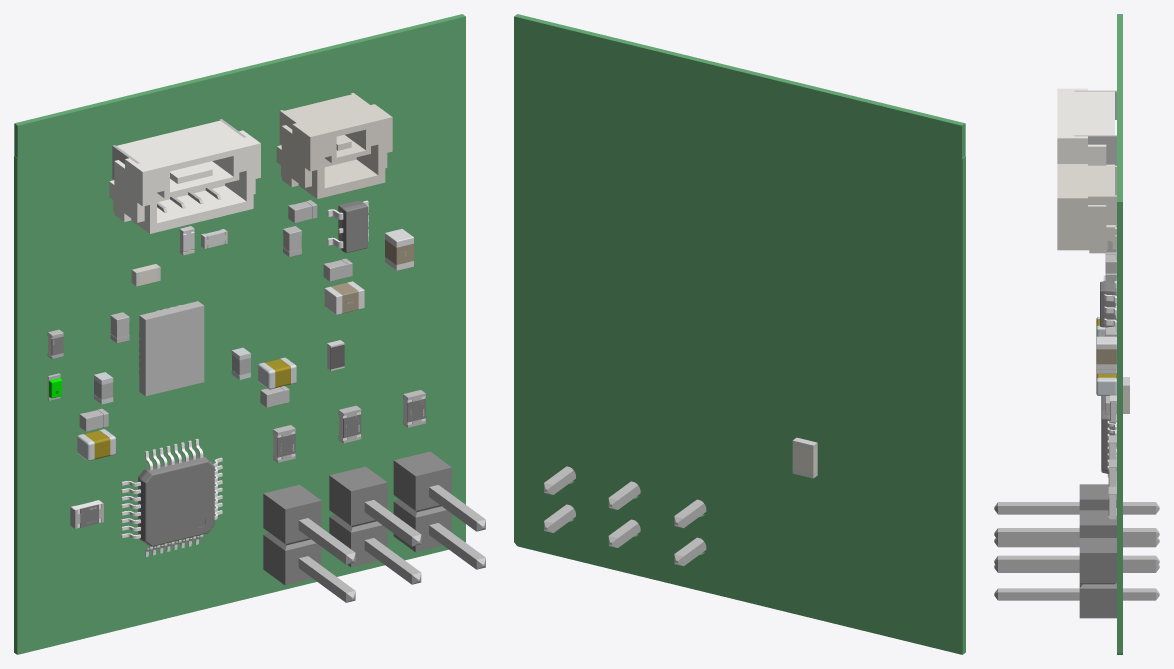
The model's file is ntc.glb.
3 renders of one model, left to right at view 1: azimuth 30°, elevation 25°; view 2: azimuth 150°, elevation 25°; view 3: azimuth 270°, elevation 25°, orthographic. The views are drawn at different scales.
Parts seen in each view (by area): view 1: empty_2, empty_195, empty_145, empty_297, empty_275, empty_75, empty_81, empty_78, empty_180, empty_82, empty_77, empty_83 (+3 smaller); view 2: empty_2; view 3: empty_145, empty_195, empty_2, empty_78, empty_76, empty_79, empty_83, empty_80, empty_81, empty_77, empty_75, empty_82 (+6 smaller).
Boxes of the visible parts, x1=… form: empty_2: x1=14, y1=14, x2=465, y2=654; empty_195: x1=109, y1=120, x2=260, y2=233; empty_145: x1=276, y1=92, x2=392, y2=198; empty_297: x1=138, y1=456, x2=214, y2=546; empty_275: x1=139, y1=301, x2=204, y2=396; empty_75: x1=263, y1=484, x2=321, y2=585; empty_81: x1=329, y1=466, x2=387, y2=567; empty_78: x1=393, y1=451, x2=451, y2=552; empty_180: x1=338, y1=200, x2=367, y2=253; empty_82: x1=364, y1=538, x2=421, y2=584; empty_77: x1=298, y1=556, x2=355, y2=602; empty_83: x1=364, y1=500, x2=421, y2=546; empty_2: x1=514, y1=14, x2=965, y2=654; empty_145: x1=1057, y1=164, x2=1116, y2=253; empty_195: x1=1057, y1=88, x2=1114, y2=165; empty_2: x1=1117, y1=14, x2=1122, y2=654; empty_78: x1=1079, y1=538, x2=1116, y2=618; empty_76: x1=994, y1=502, x2=1159, y2=514; empty_79: x1=994, y1=555, x2=1159, y2=567; empty_83: x1=994, y1=528, x2=1159, y2=540; empty_80: x1=994, y1=588, x2=1159, y2=600; empty_81: x1=1079, y1=510, x2=1116, y2=537; empty_77: x1=994, y1=538, x2=1159, y2=547; empty_75: x1=1079, y1=484, x2=1116, y2=510; empty_82: x1=994, y1=564, x2=1159, y2=572.
Size of the model in its own units: 0.0313 by 0.0353 by 0.0116.
